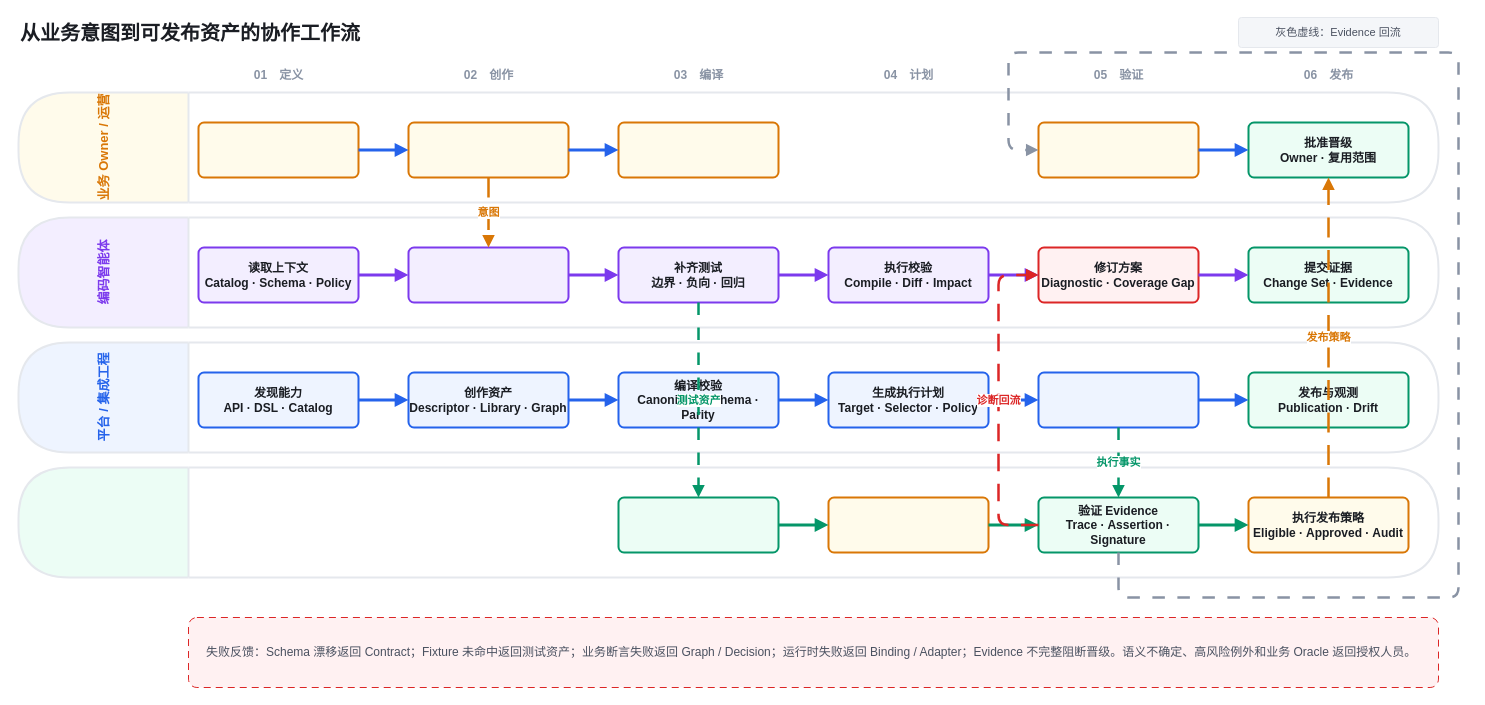
The diagram is 1485 pixels wide and 705 high, and some of its shapes have lost their labels. Here are the shapes that lost their labels. From the top down, the box of each, then its label:
(197, 121, 359, 178): 定义结果 完成条件 · 风险
(407, 121, 569, 178): 表述意图 规则 · 约束 · 例外
(617, 121, 779, 178): 确认 Oracle 关键案例预期结果
(1037, 121, 1199, 178): 审阅门禁 结果 · 风险 · 例外
(407, 246, 569, 303): 生成方案 DSL · Scenario · Fixture
(1037, 371, 1199, 428): 隔离执行 Micro Graph · Full DAG
(617, 496, 779, 553): 构建测试资产 Scenario · Fixture · Coverage
(17, 466, 1439, 578): 质量 / 治理
(827, 496, 989, 553): 审查安全边界 Profile · Purpose · Side Effect
